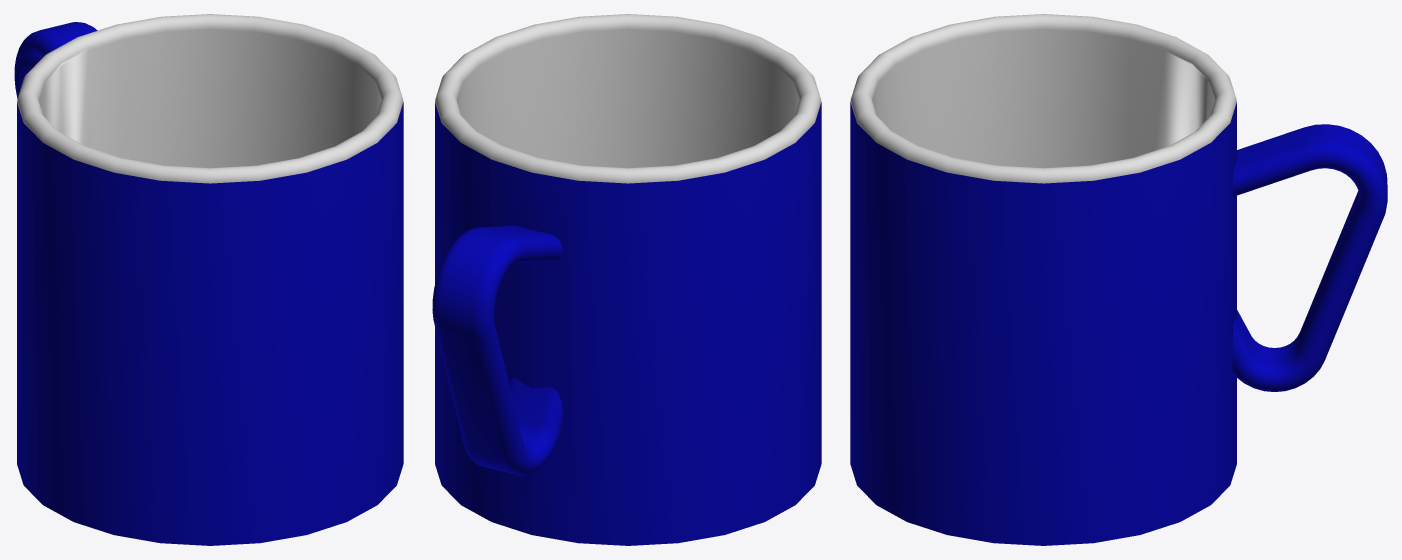
The picture shows the model from 3 angles, left to right: view 1: azimuth 30°, elevation 25°; view 2: azimuth 150°, elevation 25°; view 3: azimuth 270°, elevation 25°; orthographic projection.
Parts seen in each view (by area): view 1: mesh1_mesh1-geometry, mesh1_mesh1-geometry_1; view 2: mesh1_mesh1-geometry, mesh1_mesh1-geometry_1; view 3: mesh1_mesh1-geometry, mesh1_mesh1-geometry_1.
Boxes of the visible parts, left/top/right/bottom form: mesh1_mesh1-geometry: left=14, top=22, right=403, bottom=545; mesh1_mesh1-geometry_1: left=17, top=14, right=403, bottom=183; mesh1_mesh1-geometry: left=432, top=102, right=821, bottom=545; mesh1_mesh1-geometry_1: left=435, top=14, right=821, bottom=183; mesh1_mesh1-geometry: left=850, top=102, right=1387, bottom=545; mesh1_mesh1-geometry_1: left=850, top=14, right=1236, bottom=183.
Size of the model in its own units: 0.4962 by 0.5274 by 0.6896.
